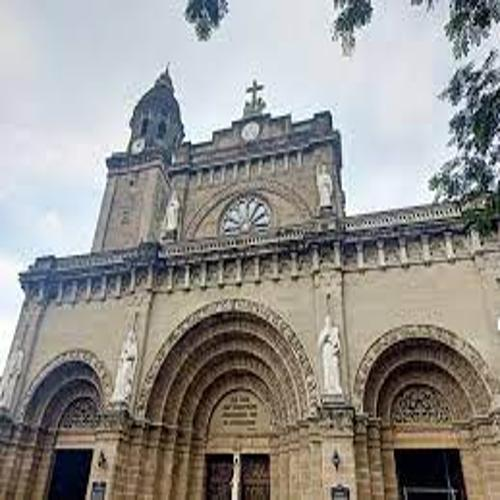Manila Cathedral Church: (8, 53, 497, 487)
